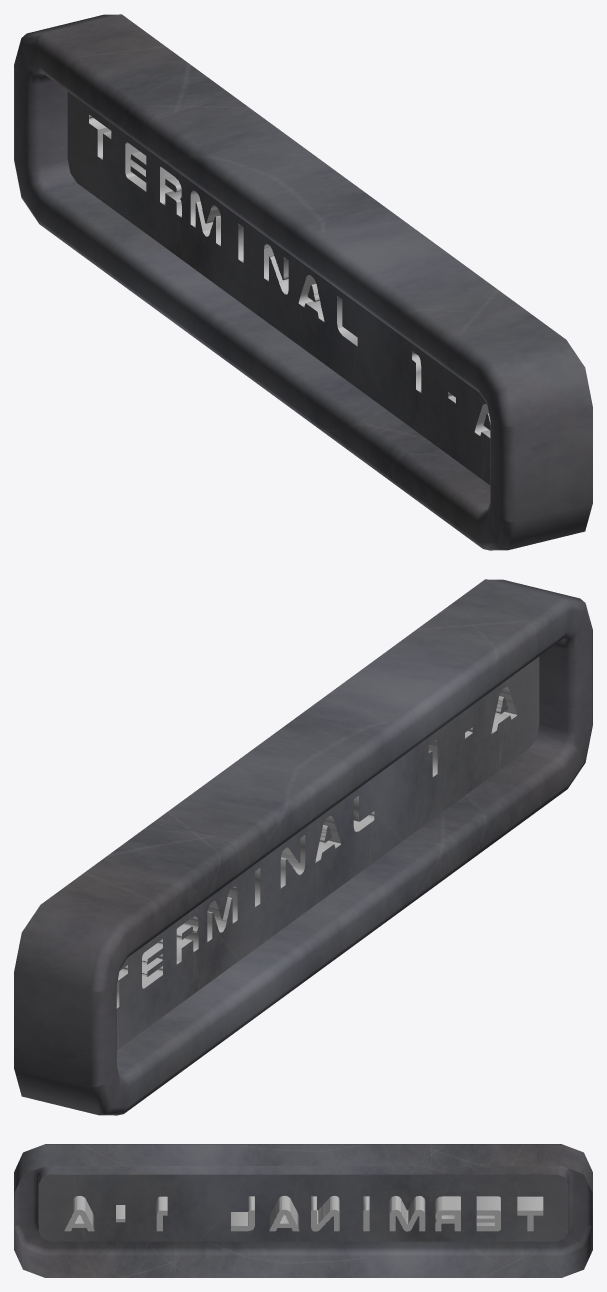
File: Terminal_1A.fbx
The picture shows the model from 3 angles, top to bottom: view 1: azimuth 30°, elevation 25°; view 2: azimuth 150°, elevation 25°; view 3: azimuth 270°, elevation 25°; orthographic projection. The views are drawn at different scales.
Parts seen in each view (by area): view 1: Terminal_1A; view 2: Terminal_1A; view 3: Terminal_1A.
Part boxes in pixels (<box>): Terminal_1A: <box>14,14,592,550</box>; Terminal_1A: <box>14,579,592,1115</box>; Terminal_1A: <box>14,1144,592,1277</box>.
Size of the model in its own units: 46.75 by 100 by 470.
